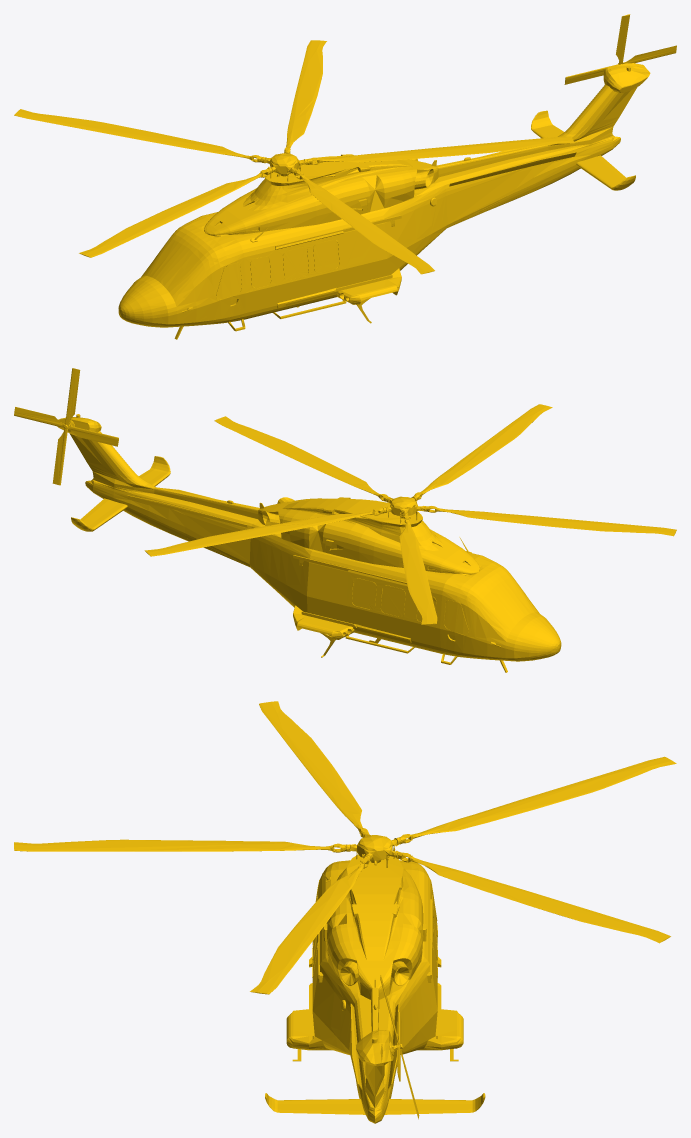
The model's file is heli.glb.
3 views of the same model, one above another, from view 1: azimuth 30°, elevation 25°; view 2: azimuth 150°, elevation 25°; view 3: azimuth 270°, elevation 25° (orthographic). The views are drawn at different scales.
Parts seen in each view (by area): view 1: Heli_Body, Heli_MainRotor, Heli_TailRotor; view 2: Heli_Body, Heli_MainRotor, Heli_TailRotor; view 3: Heli_Body, Heli_MainRotor.
Part boxes in pixels (left/top/right/bottom): Heli_Body: left=118, top=63, right=650, bottom=339; Heli_MainRotor: left=14, top=40, right=574, bottom=274; Heli_TailRotor: left=564, top=14, right=676, bottom=84; Heli_Body: left=57, top=414, right=561, bottom=672; Heli_MainRotor: left=144, top=404, right=676, bottom=624; Heli_TailRotor: left=14, top=368, right=118, bottom=485; Heli_Body: left=265, top=827, right=485, bottom=1123; Heli_MainRotor: left=14, top=701, right=676, bottom=994.
Size of the model in its own units: 16.48 by 5.16 by 11.9.
